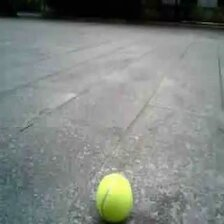tennis: (97, 175, 134, 217)
